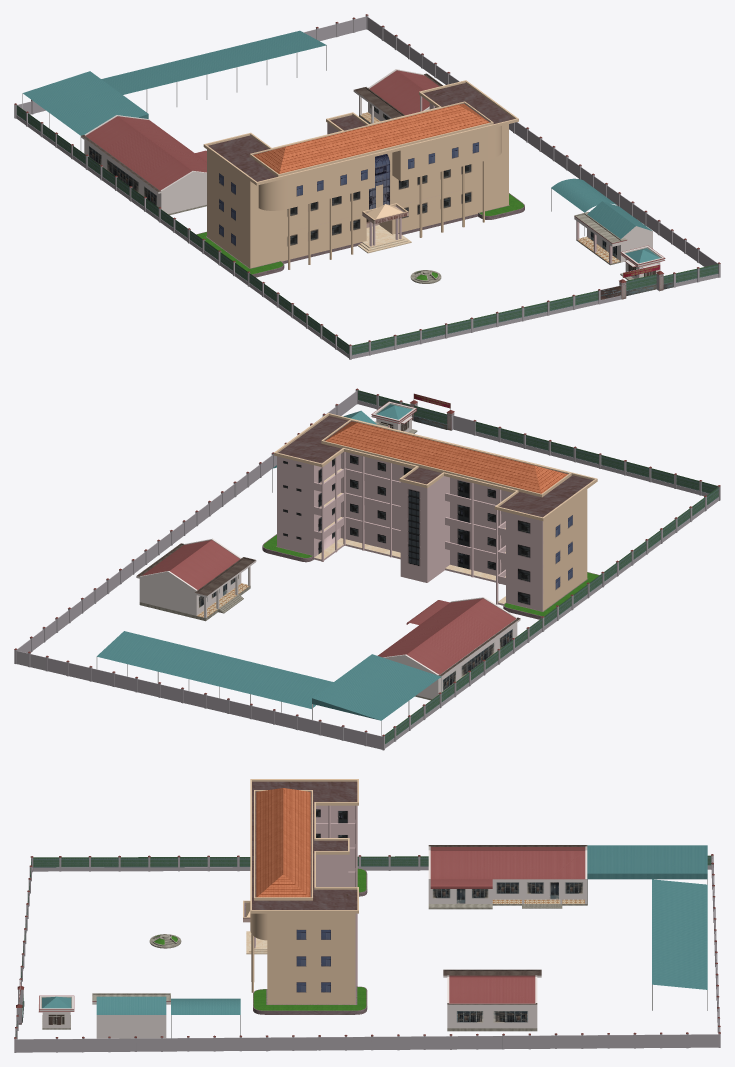
Rendered from Sở Lao Động - Thương Binh Và Xã Hội Tỉnh Bình Phước.glb.
3 views of the same model, one above another, from view 1: azimuth 30°, elevation 25°; view 2: azimuth 150°, elevation 25°; view 3: azimuth 270°, elevation 25° (orthographic). The views are drawn at different scales.
Parts seen in each view (by area): view 1: BPH074_2, BPH074_1, BPH074_3, BPH074_1.002, BPH074_3.001; view 2: BPH074_2, BPH074_1, BPH074_3, BPH074_3.001; view 3: BPH074_2, BPH074_3, BPH074_1, BPH074_3.001, BPH074_1.002.
Boxes of the visible parts, <box> form: BPH074_2: <box>196,80,524,277</box>; BPH074_1: <box>14,14,720,359</box>; BPH074_3: <box>22,30,326,215</box>; BPH074_1.002: <box>551,178,652,265</box>; BPH074_3.001: <box>353,69,442,123</box>; BPH074_2: <box>262,413,599,619</box>; BPH074_1: <box>14,388,720,750</box>; BPH074_3: <box>96,597,520,736</box>; BPH074_3.001: <box>136,538,256,621</box>; BPH074_2: <box>243,779,367,1014</box>; BPH074_3: <box>428,845,707,1010</box>; BPH074_1: <box>14,854,720,1052</box>; BPH074_3.001: <box>443,969,541,1031</box>; BPH074_1.002: <box>92,993,240,1038</box>.
Bounding box in the file's own units: 51.86 × 14.77 × 84.16.
Materials: 3 (3 with a texture image).
